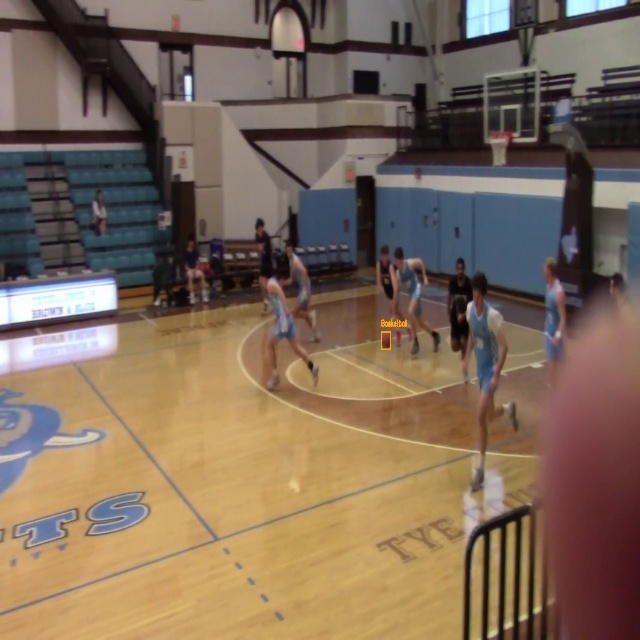Basketball: (381, 332, 391, 349)
